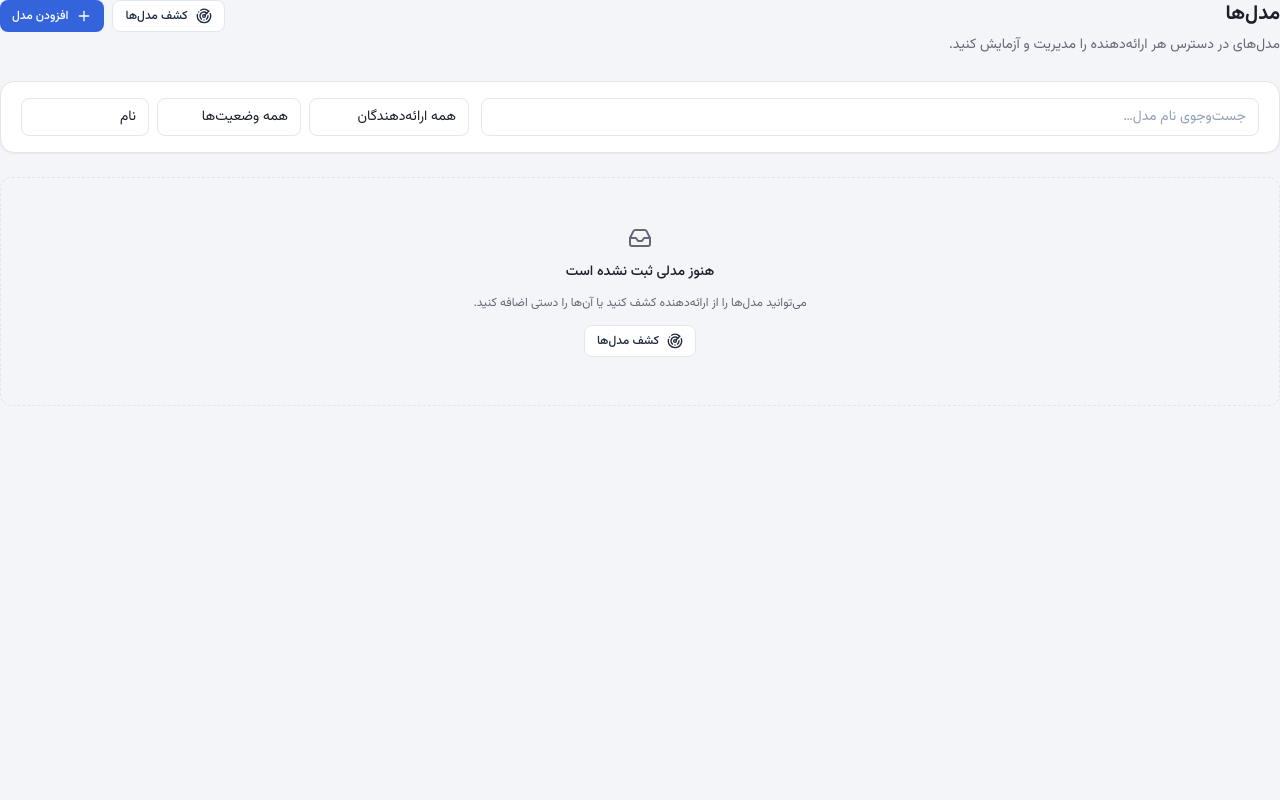
Test case: models module › reports the real discovery counters
Click the 1st button "کشف مدل‌ها".
click(169, 16)  # box [112, 0, 225, 32]
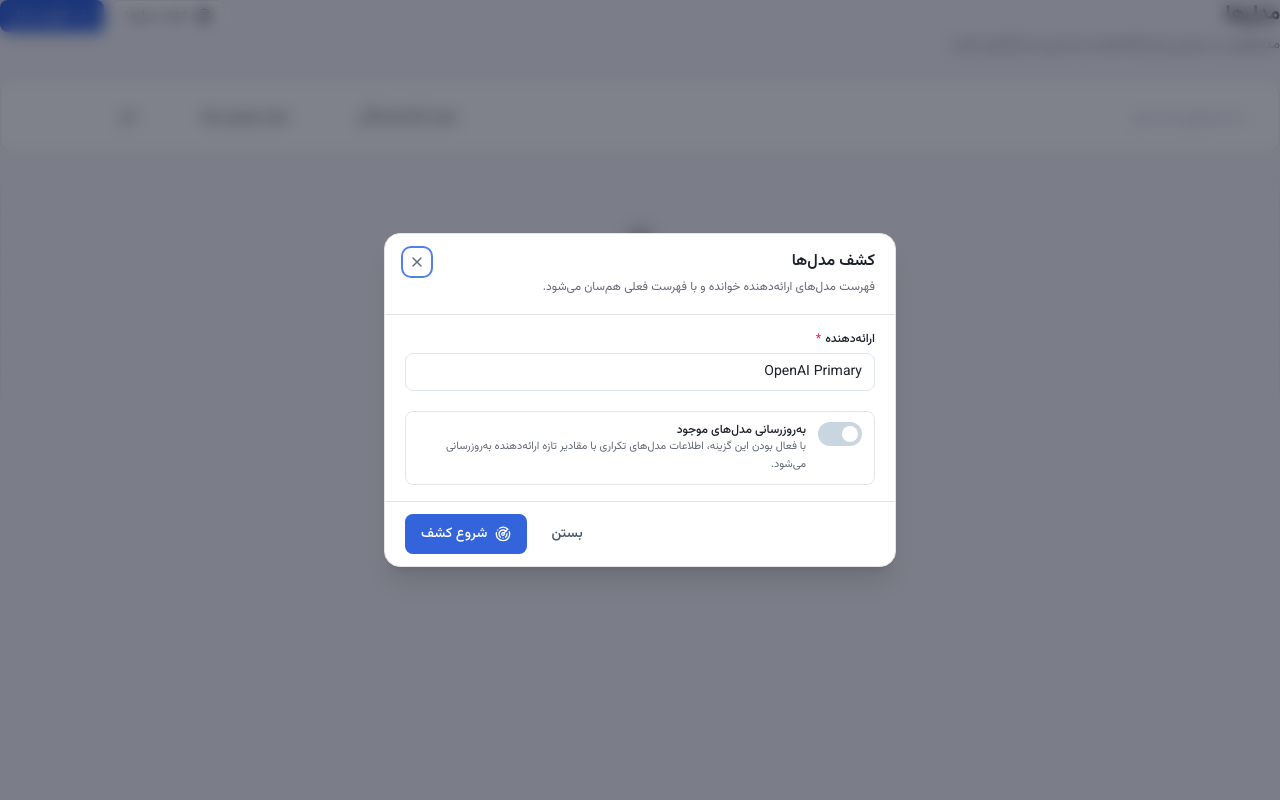
Click the button "شروع کشف".
click(466, 534)  # box [405, 514, 527, 554]
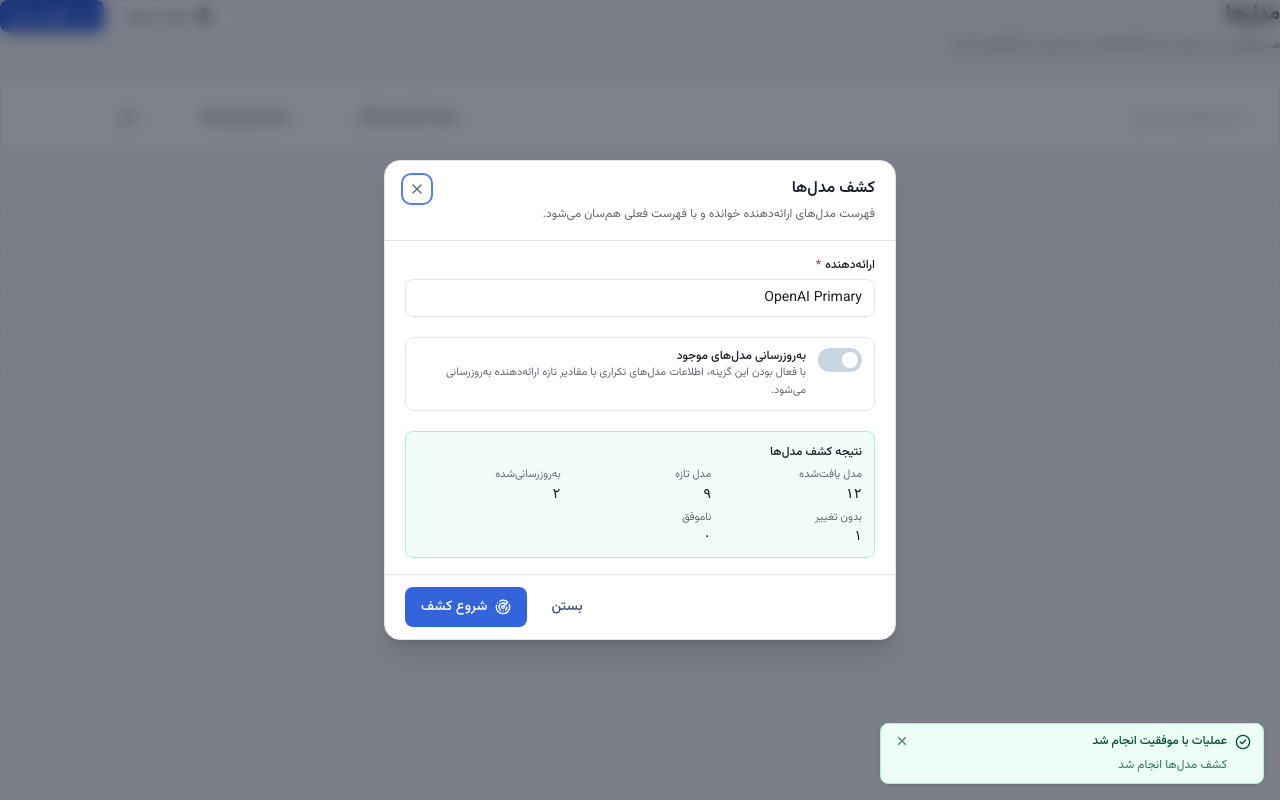
expect the text "نتیجه کشف مدل‌ها" is shown: met, box [770, 443, 862, 461]
expect the text "۹" is shown: met, box [703, 485, 711, 501]
expect the text "۲" is shown: met, box [552, 485, 561, 501]
